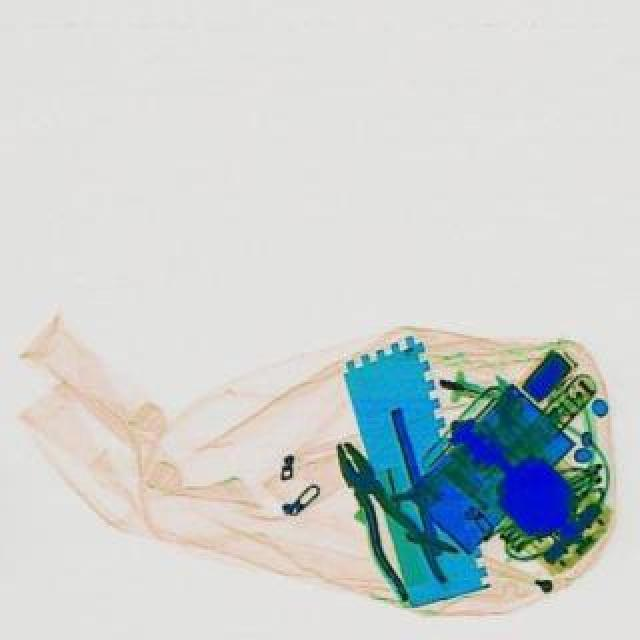wrench: (316, 428, 448, 600)
